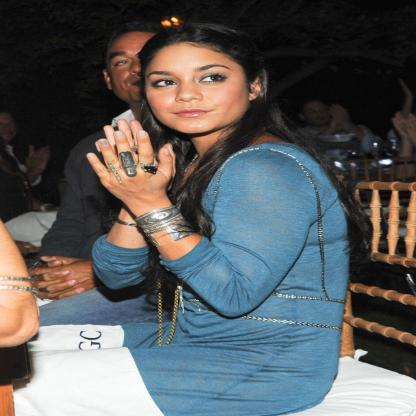face: (147, 46, 251, 134), (108, 33, 179, 103), (302, 103, 334, 128)
